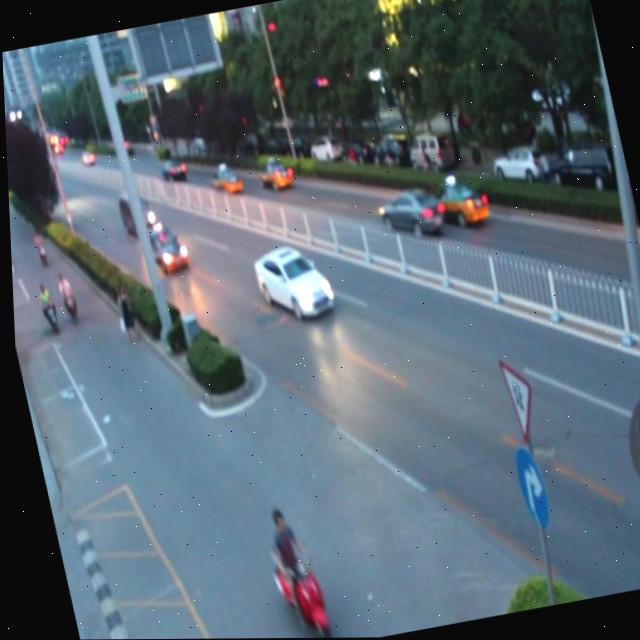car: (247, 239, 331, 324), (369, 184, 443, 244), (419, 172, 487, 229), (141, 223, 182, 270), (253, 157, 291, 192), (204, 162, 240, 195), (156, 152, 185, 182)
truck: (113, 187, 153, 233)
